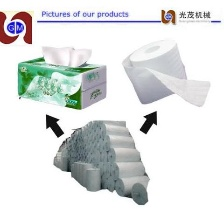tissue: (46, 113, 154, 209), (115, 33, 214, 112), (12, 51, 109, 112), (36, 40, 95, 70)
